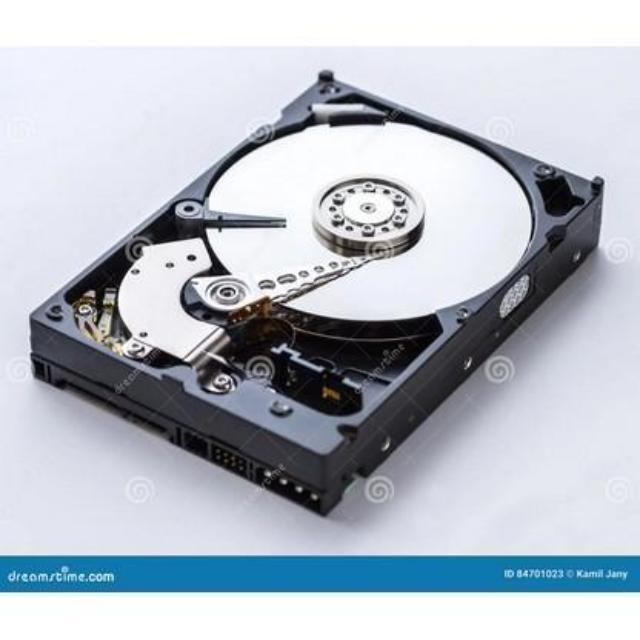DISK: (34, 69, 606, 529)
